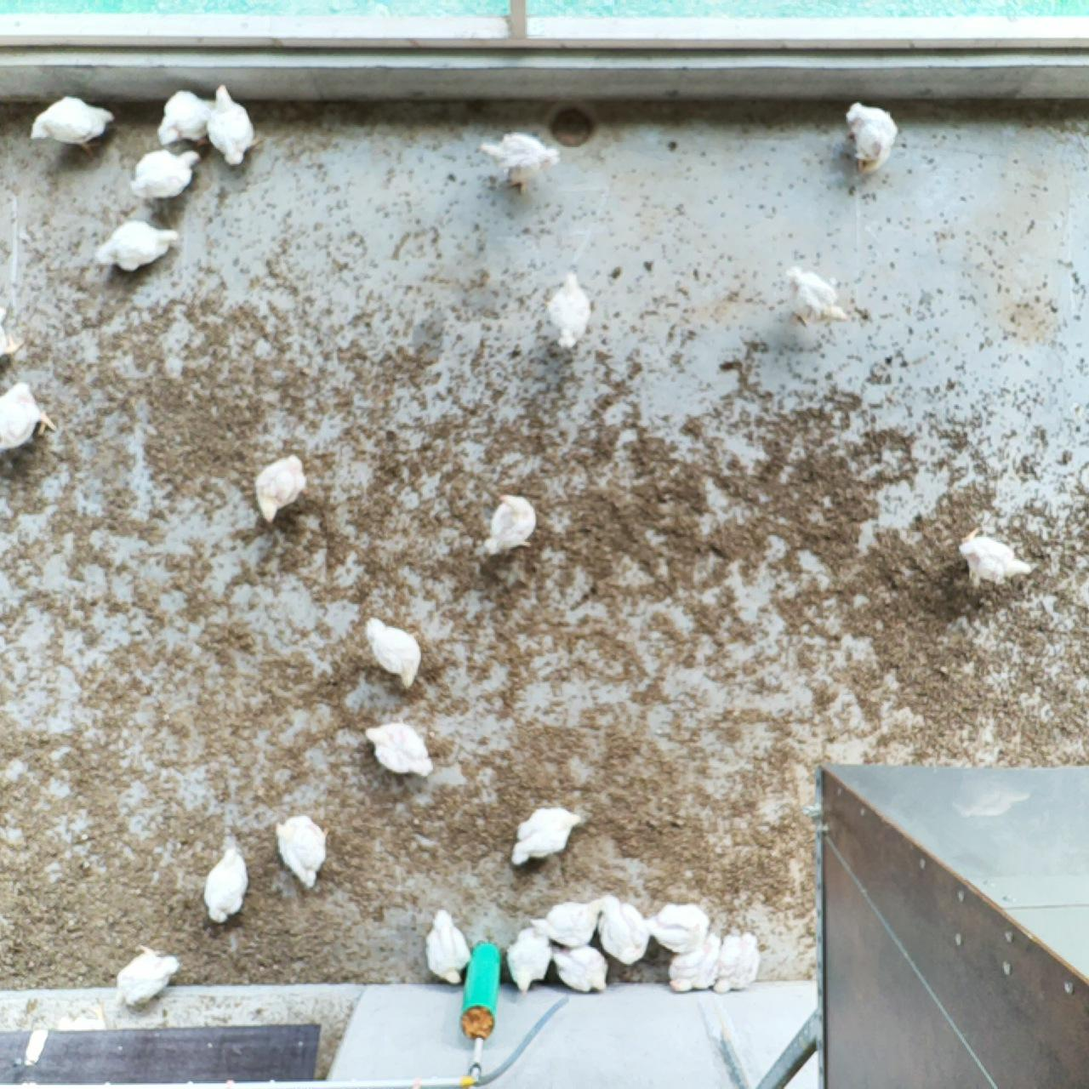chicken: (476, 128, 565, 198), (28, 93, 115, 162), (93, 217, 181, 276), (207, 81, 265, 170), (510, 804, 588, 870), (841, 97, 902, 181), (957, 526, 1036, 590), (272, 809, 333, 891), (364, 714, 436, 782), (0, 379, 60, 460), (363, 615, 425, 693), (781, 262, 851, 331), (111, 942, 180, 1011), (538, 267, 594, 351), (253, 452, 313, 528), (419, 906, 473, 988), (202, 844, 255, 927), (480, 490, 539, 564), (663, 928, 723, 998), (528, 896, 606, 949), (156, 86, 218, 152), (129, 147, 202, 203), (504, 923, 555, 1001), (597, 892, 649, 968), (710, 923, 762, 997), (642, 901, 713, 954), (549, 944, 613, 997)
